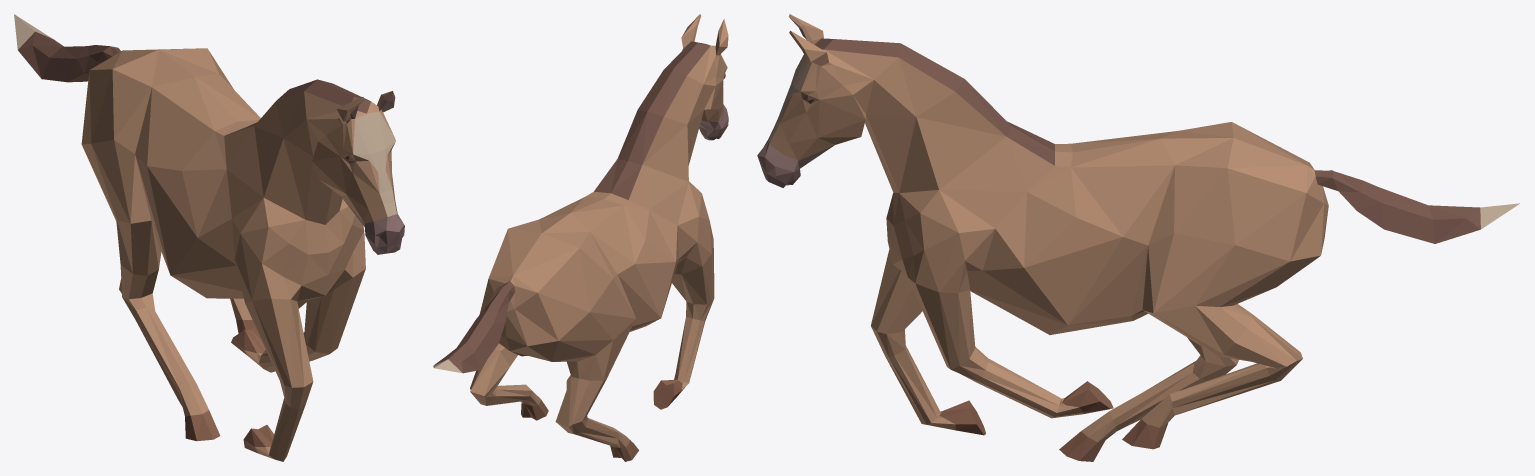
Rendered from Horse.glb.
The picture shows the model from 3 angles, left to right: view 1: azimuth 30°, elevation 25°; view 2: azimuth 150°, elevation 25°; view 3: azimuth 270°, elevation 25°; orthographic projection. The views are drawn at different scales.
Parts seen in each view (by area): view 1: mesh_0; view 2: mesh_0; view 3: mesh_0.
Boxes of the visible parts, left/top/right/bottom form: mesh_0: left=14, top=14, right=404, bottom=461; mesh_0: left=433, top=14, right=728, bottom=461; mesh_0: left=757, top=14, right=1519, bottom=461.
Size of the model in its own units: 65.97 by 181 by 277.
